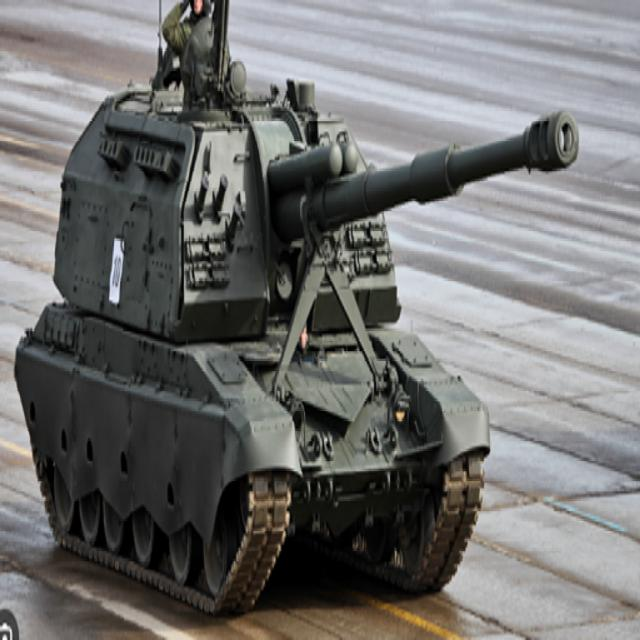ART: (10, 59, 579, 614)
